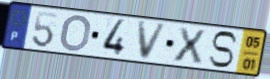4: (100, 17, 128, 59)
5: (31, 10, 60, 49)
O: (58, 14, 93, 53)
S: (207, 30, 240, 70)
V: (136, 20, 170, 61)
X: (172, 26, 208, 65)
